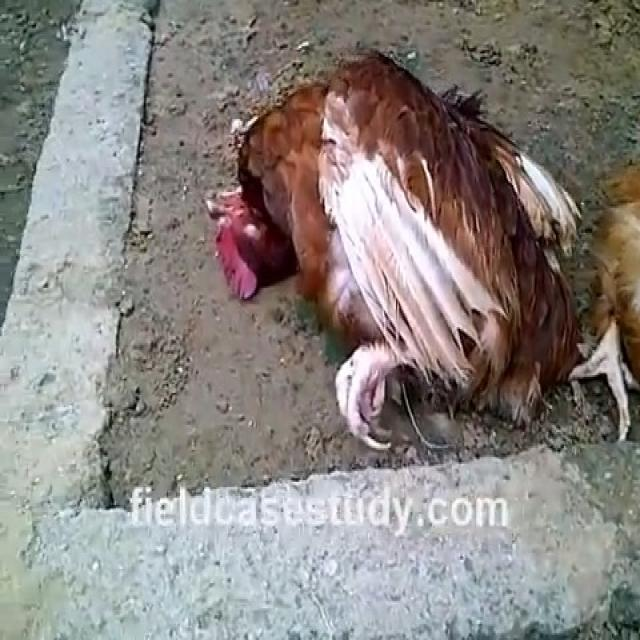bird flu: (195, 19, 597, 450)
